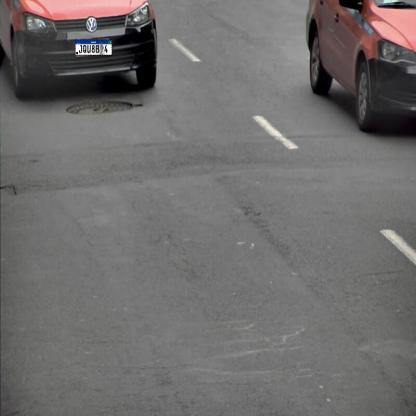PlacaM: (75, 40, 112, 56)
